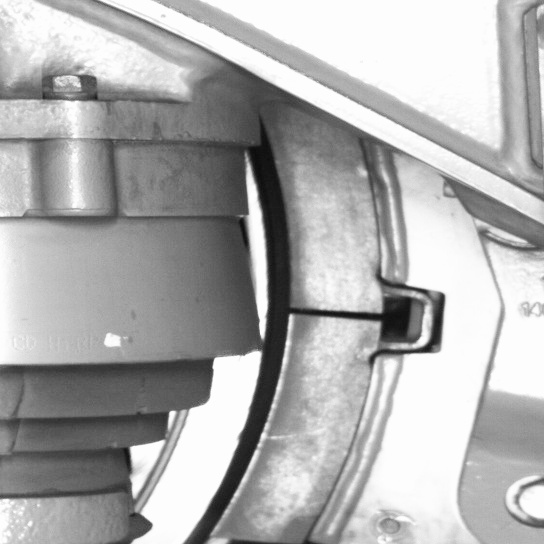KnifeSwitch: (175, 140, 396, 543)
